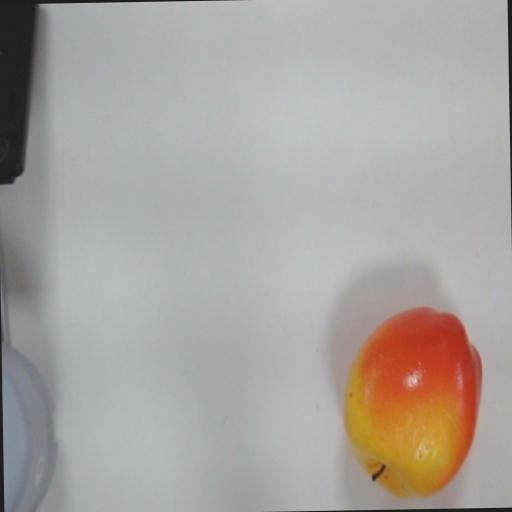Ripe: (330, 292, 502, 509)
